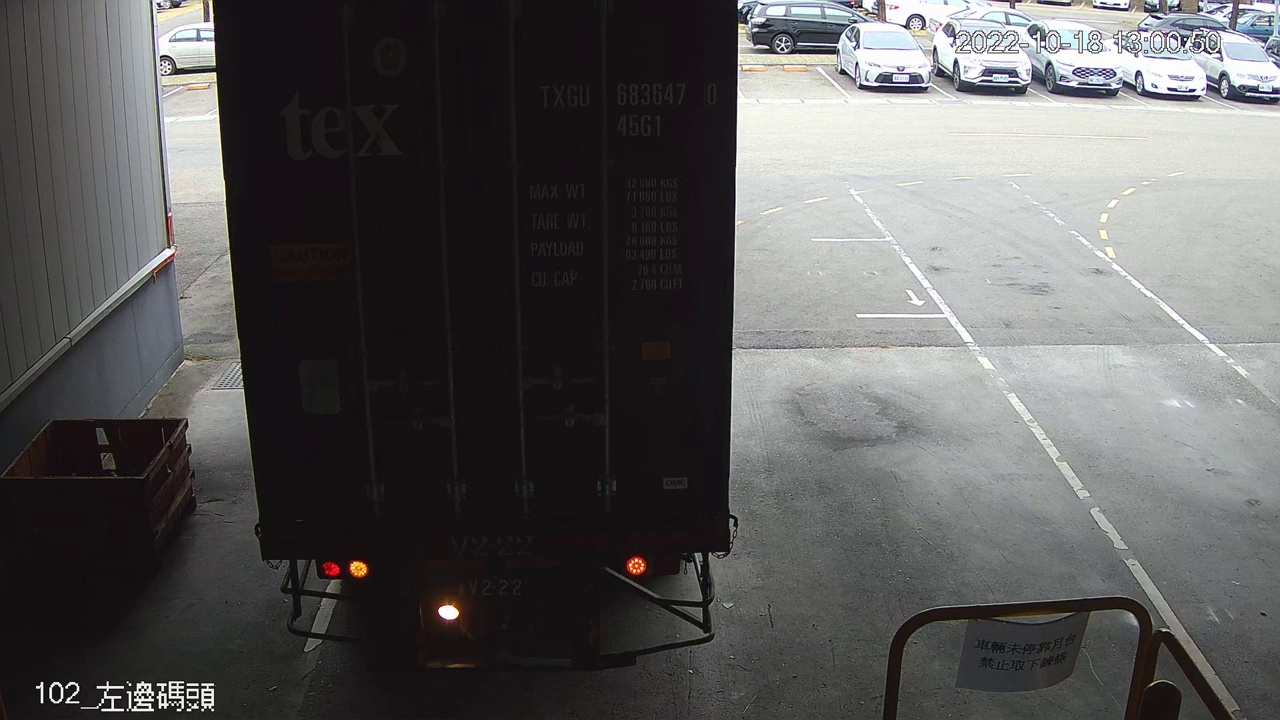container: (529, 72, 724, 144)
